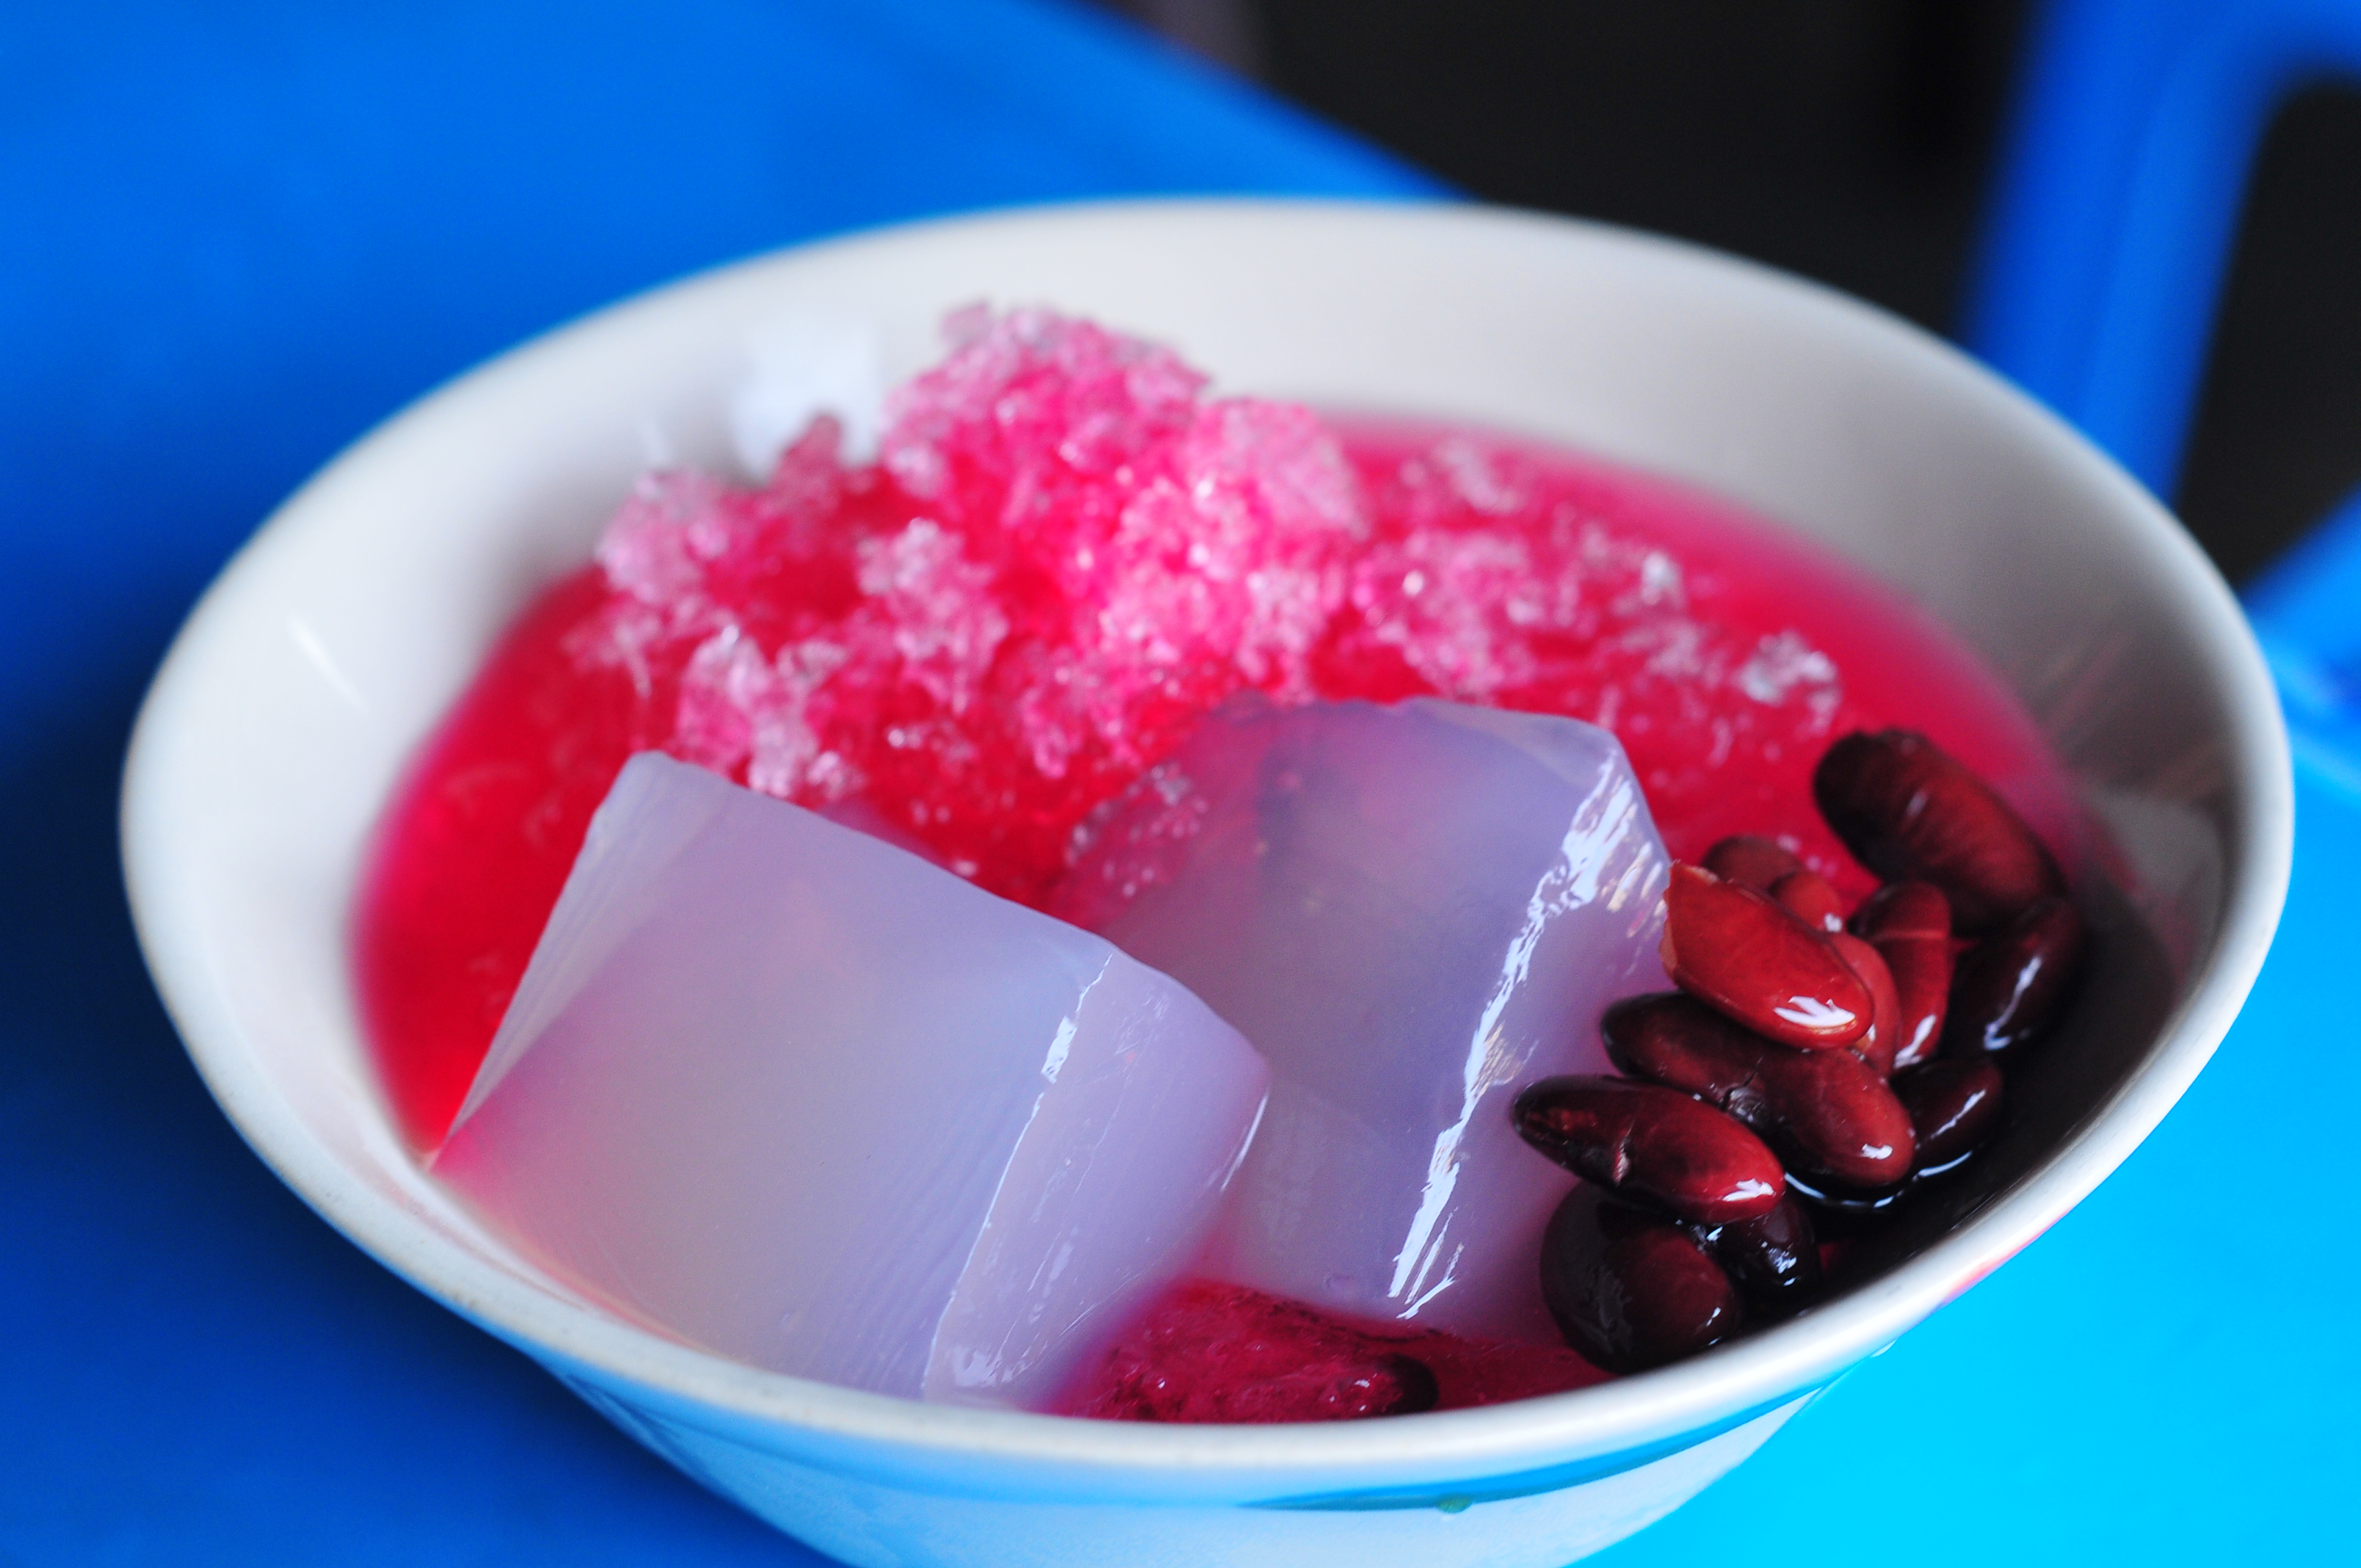O-eo: (392, 310, 2221, 1410)
